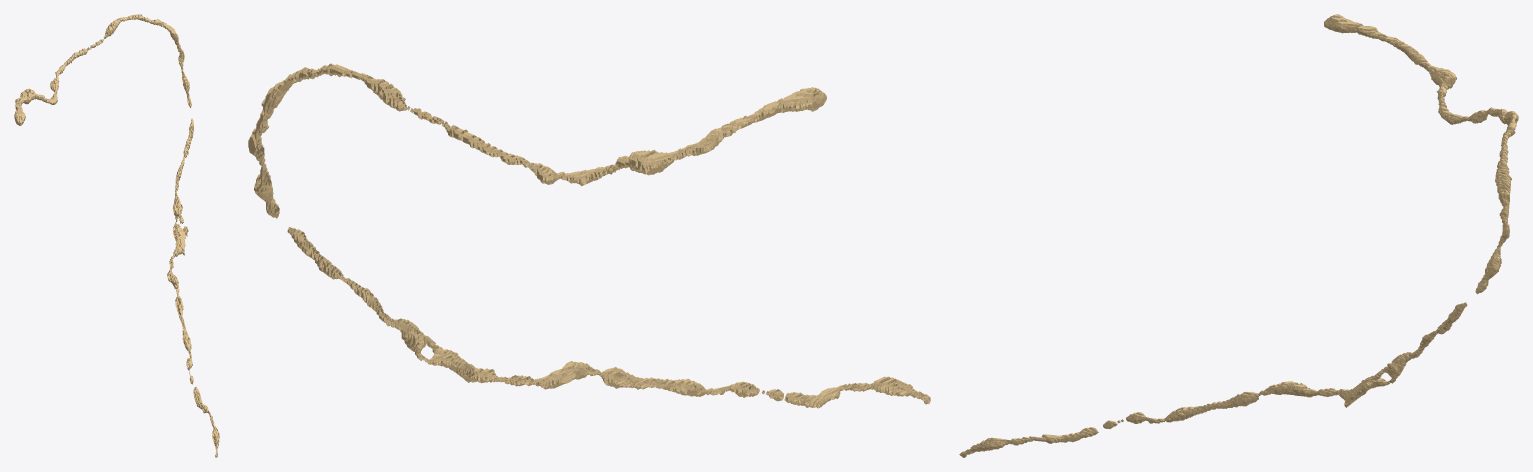
Rendered from SVV_AVDL.gltf.
3 views of the same model, side by side, from view 1: azimuth 30°, elevation 25°; view 2: azimuth 150°, elevation 25°; view 3: azimuth 270°, elevation 25° (orthographic). The views are drawn at different scales.
Parts seen in each view (by area): view 1: AVDL; view 2: AVDL; view 3: AVDL.
Part boxes in pixels (x1,y1,x2,y2): AVDL: (14,14,219,457); AVDL: (248,63,930,408); AVDL: (959,14,1518,457).
Bounding box in the file's own units: 138335 × 161619 × 200263.
